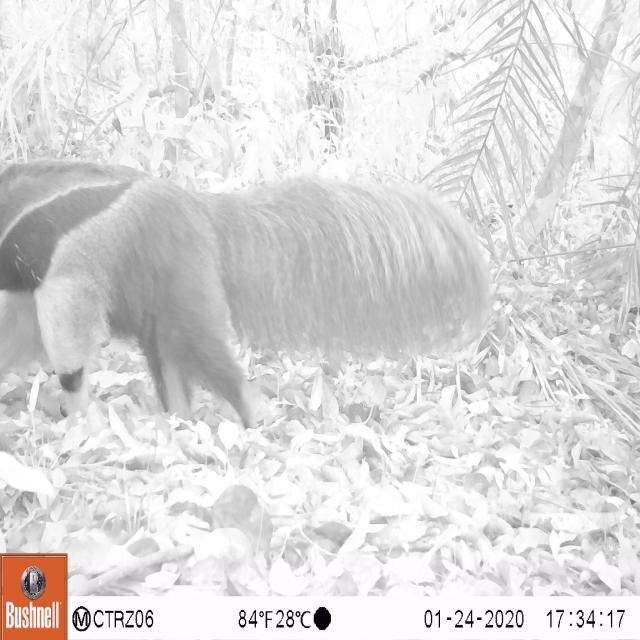Giant Anteater: (0, 149, 503, 441)
